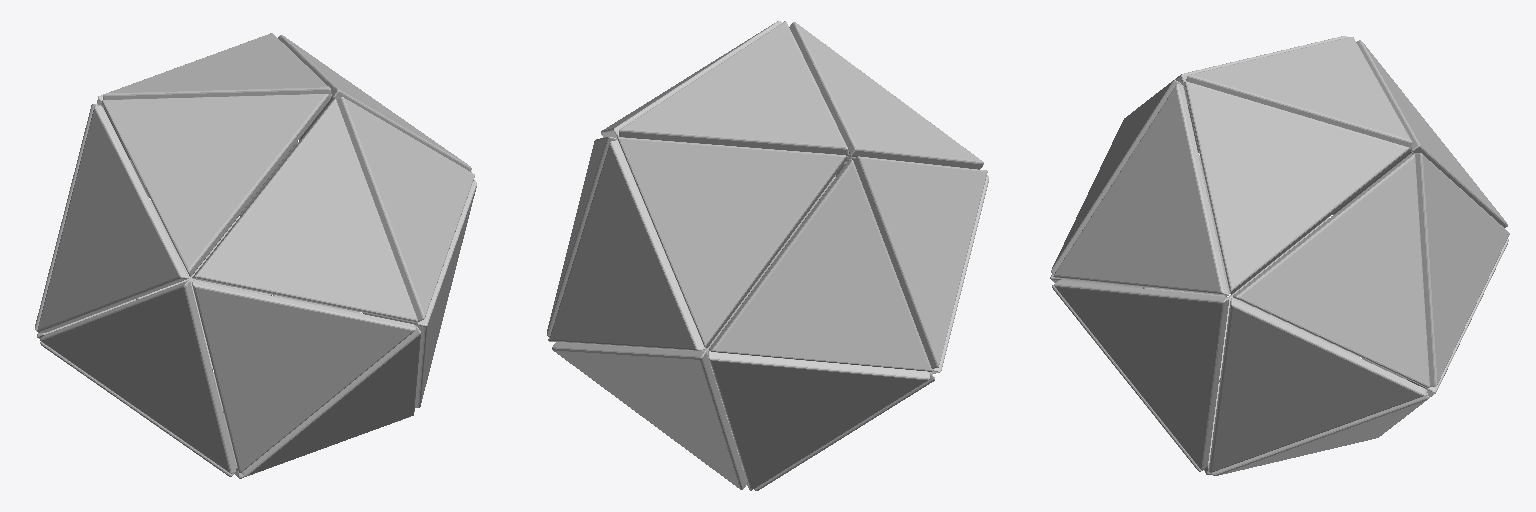
File: missle.obj
3 renders of one model, left to right at view 1: azimuth 30°, elevation 25°; view 2: azimuth 150°, elevation 25°; view 3: azimuth 270°, elevation 25°, orthographic.
Parts seen in each view (by area): view 1: Icosphere.001; view 2: Icosphere.001; view 3: Icosphere.001.
Boxes of the visible parts, <box> form: Icosphere.001: <box>35,33,476,478</box>; Icosphere.001: <box>547,21,988,490</box>; Icosphere.001: <box>1050,36,1509,475</box>.
Bounding box in the file's own units: 1.97 × 1.88 × 2.02.